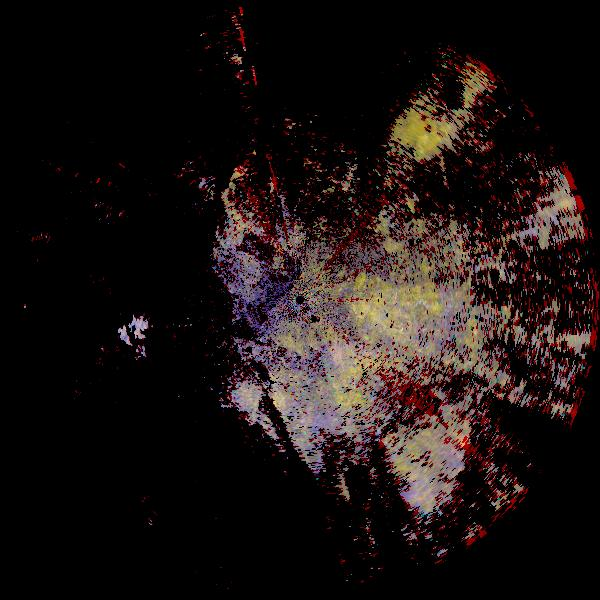roost: (382, 400, 523, 541)
